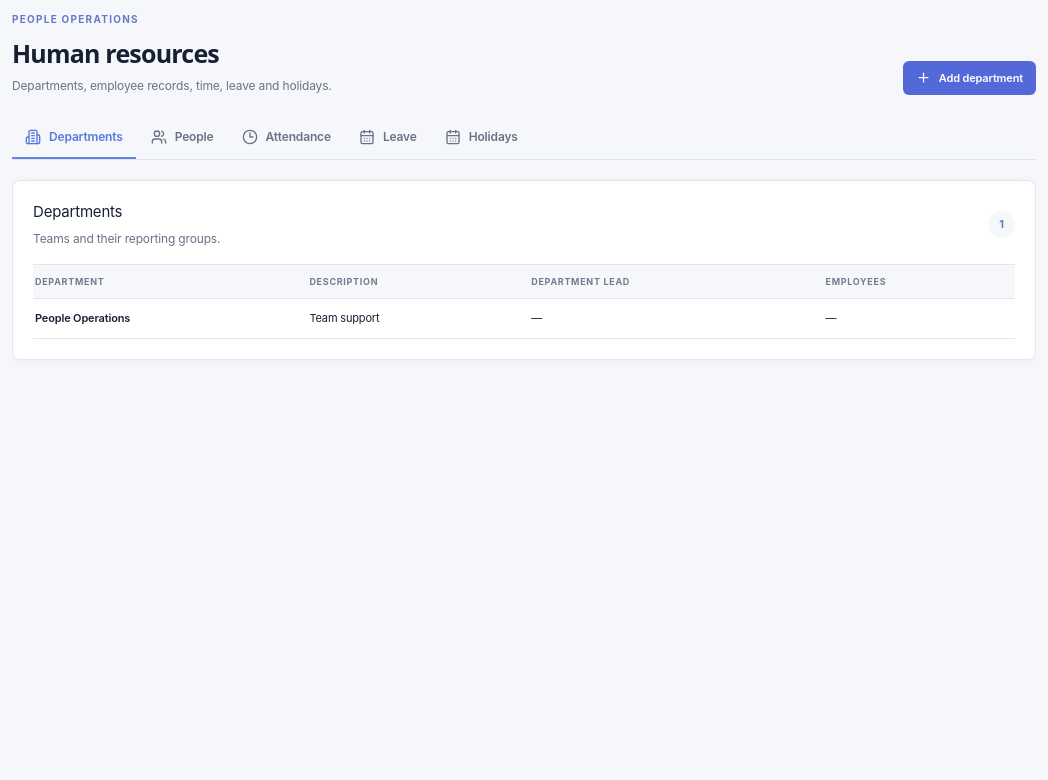
Test: HR page › validates department forms before submitting
Expected: the text "People Operations" is shown, [35,311,130,325]
Click the button "Add department". click: (969,78)
box: [903,60,1036,95]
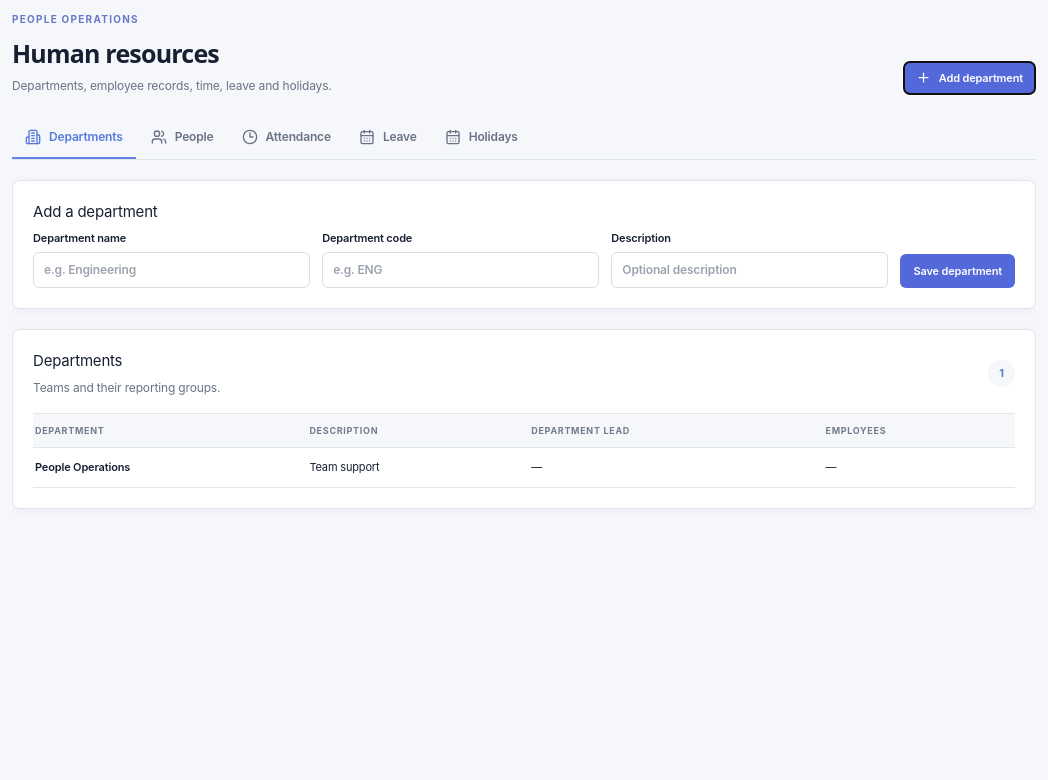
Click the button "Save department". click: (958,271)
box: [900,254,1015,288]
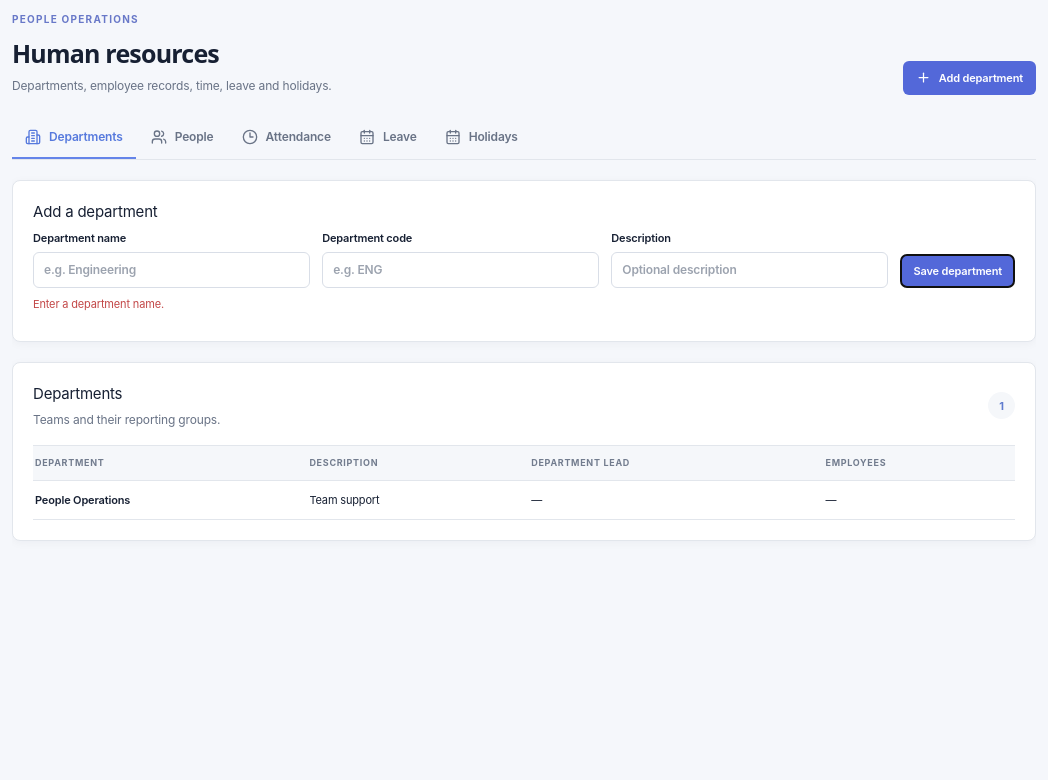
Expected: the message reads "Enter a department name.", [33,297,164,311]
